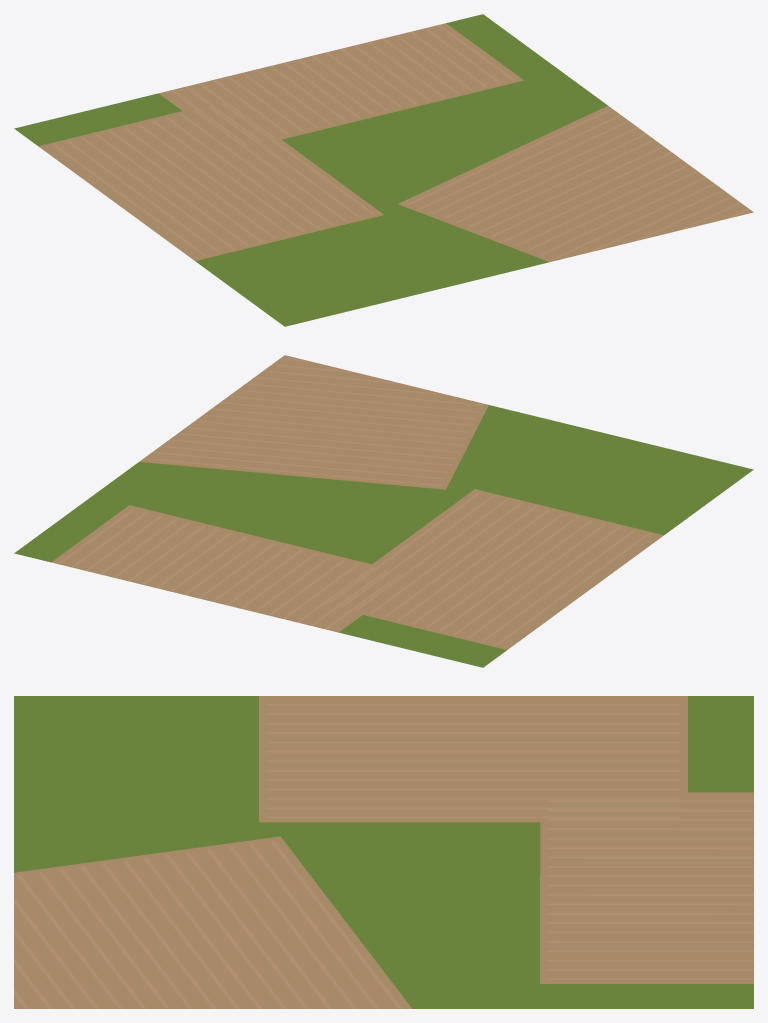
The model's file is crossing-1-6.glb.
The picture shows the model from 3 angles, top to bottom: view 1: azimuth 30°, elevation 25°; view 2: azimuth 150°, elevation 25°; view 3: azimuth 270°, elevation 25°; orthographic projection. The views are drawn at different scales.
Parts seen in each view (by area): view 1: crossing-1-6; view 2: crossing-1-6; view 3: crossing-1-6.
Boxes of the visible parts, bbox=[...] form: crossing-1-6: bbox=[14, 14, 753, 326]; crossing-1-6: bbox=[14, 355, 753, 667]; crossing-1-6: bbox=[14, 696, 753, 1008].
Bounding box in the file's own units: 100 × 0.0064 × 100.
